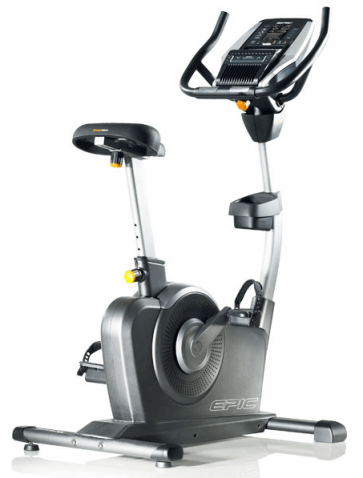gym_bike: (16, 22, 343, 463)
